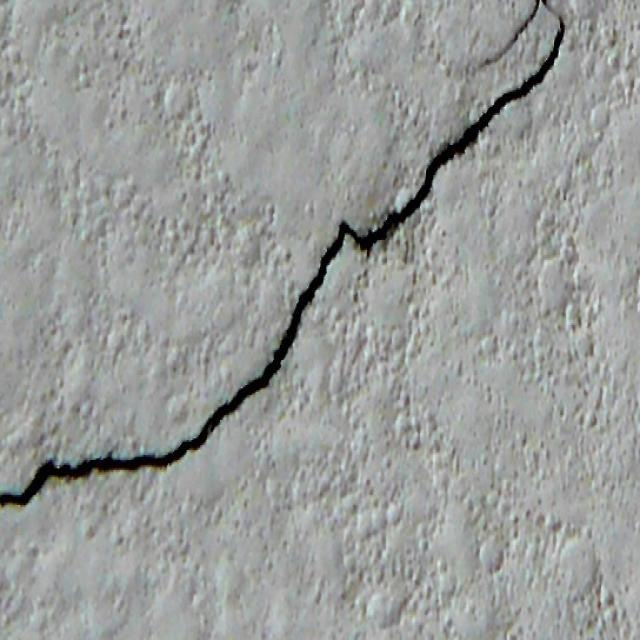Diagonal: (0, 2, 570, 506)
